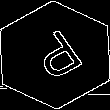P_SE: (22, 24, 88, 86)
